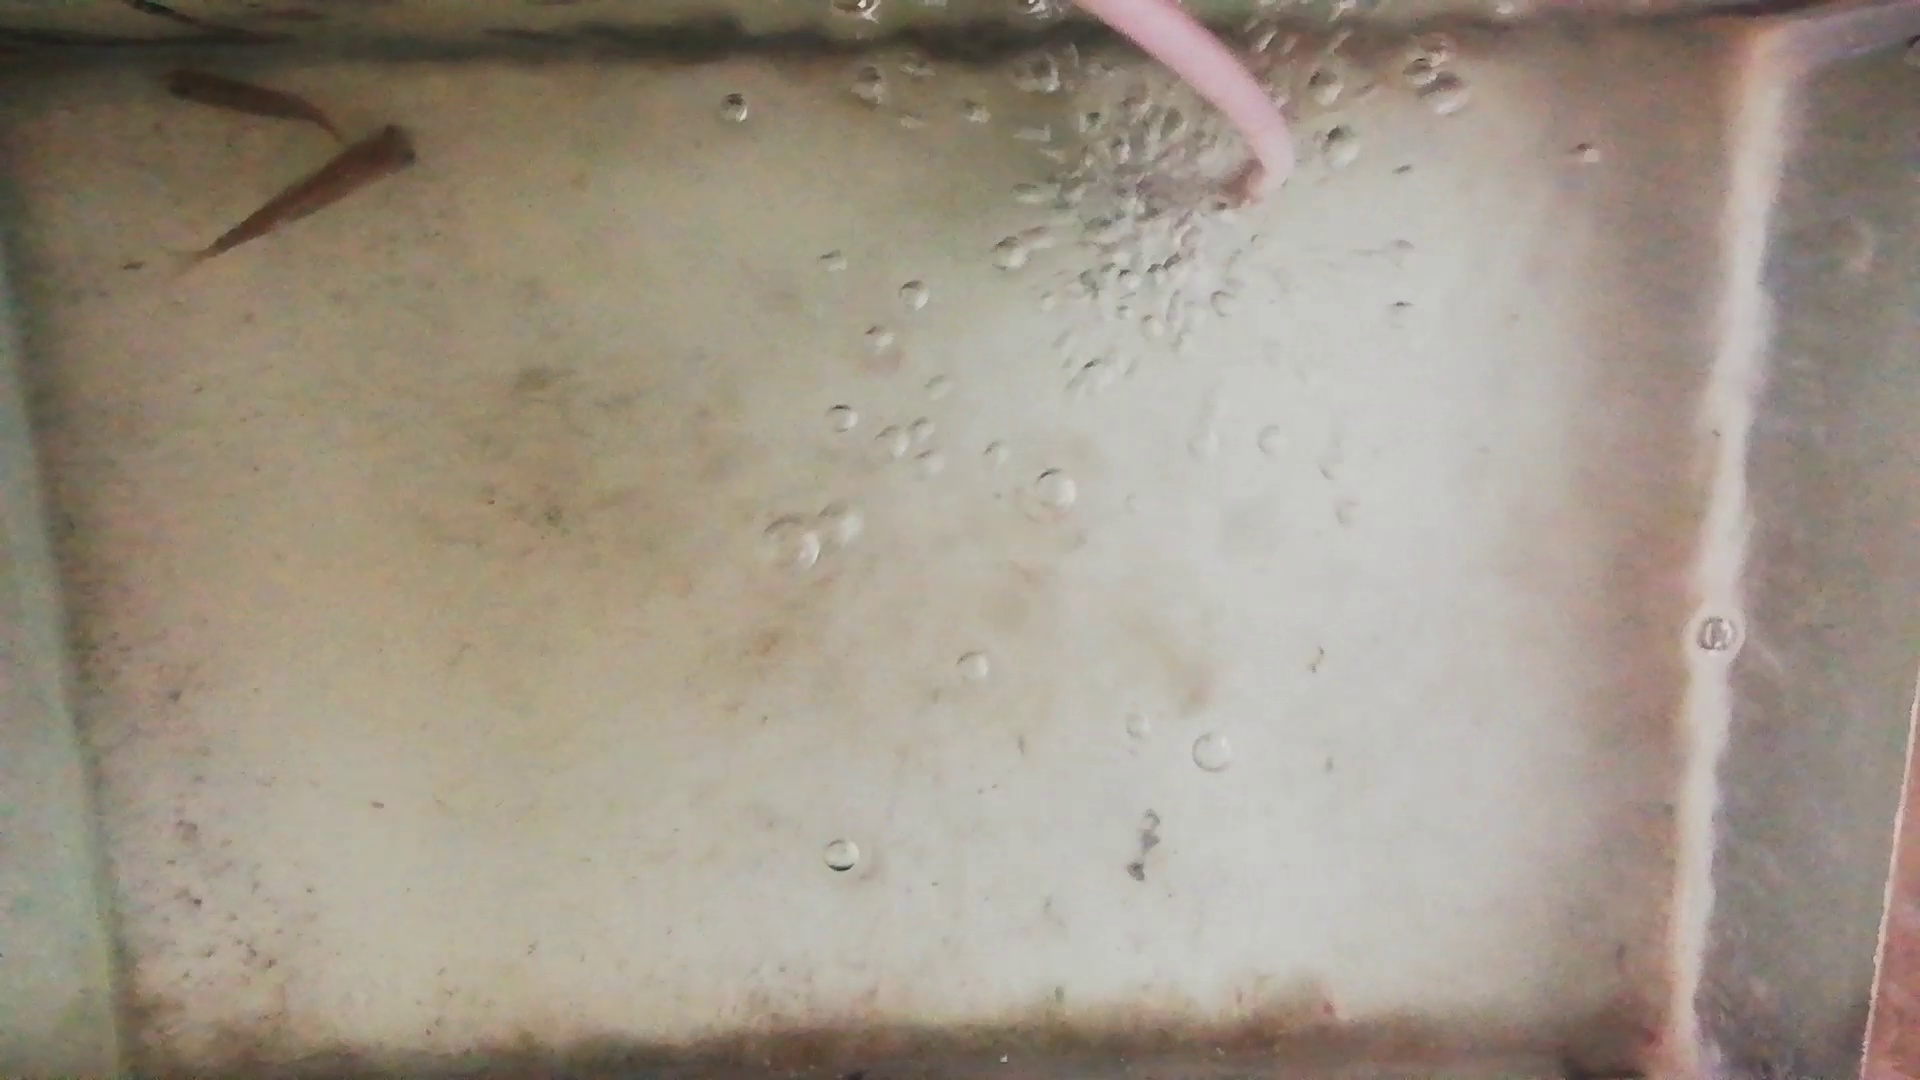fish: (204, 124, 426, 256), (154, 65, 334, 131)
